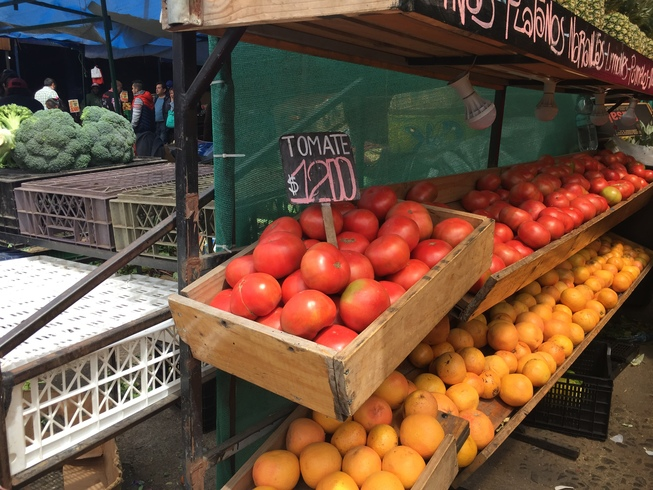precio: (275, 127, 367, 207)
